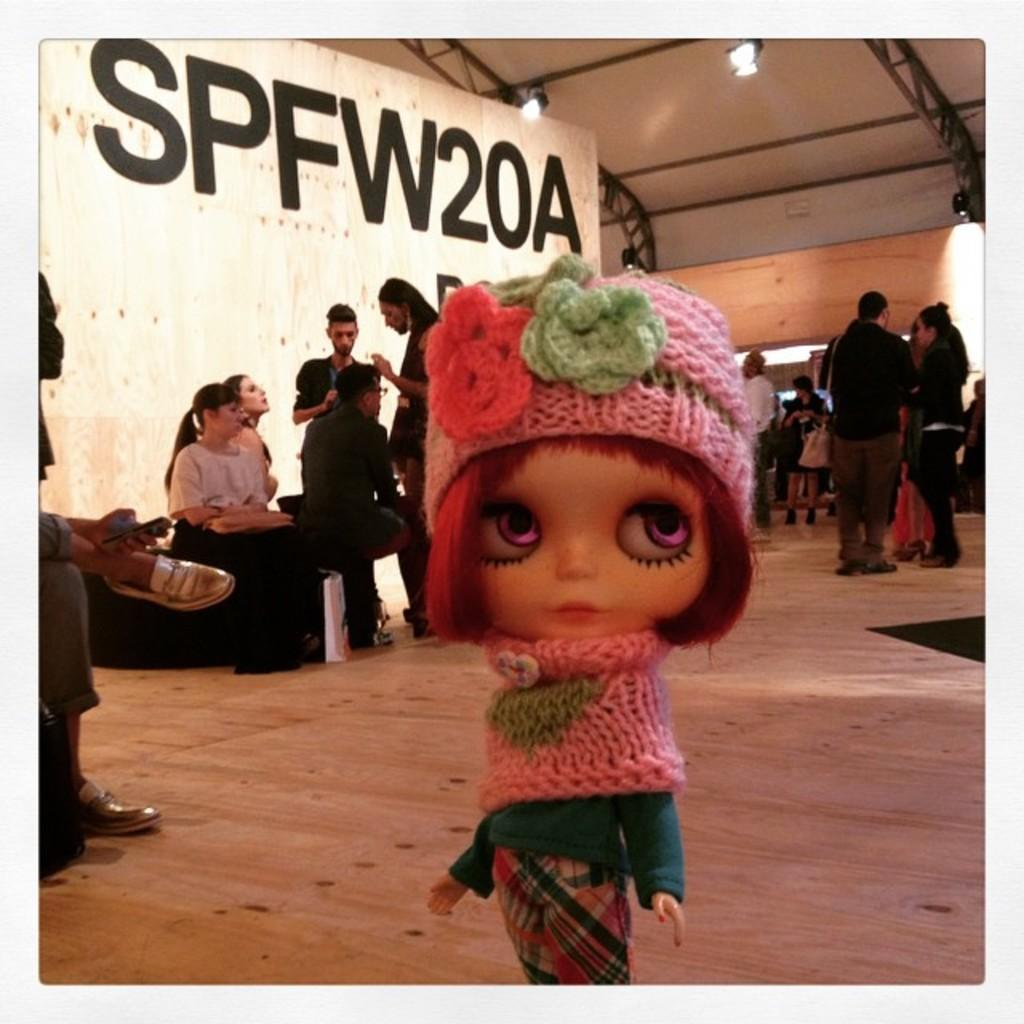Hat: (419, 260, 755, 526)
